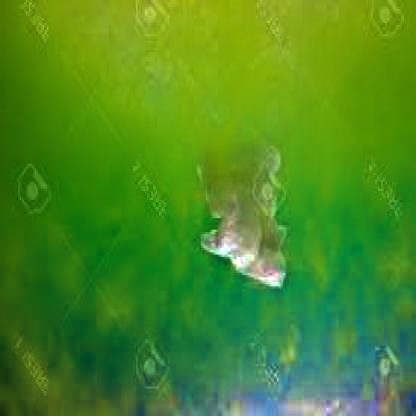pbag: (194, 145, 288, 294)
